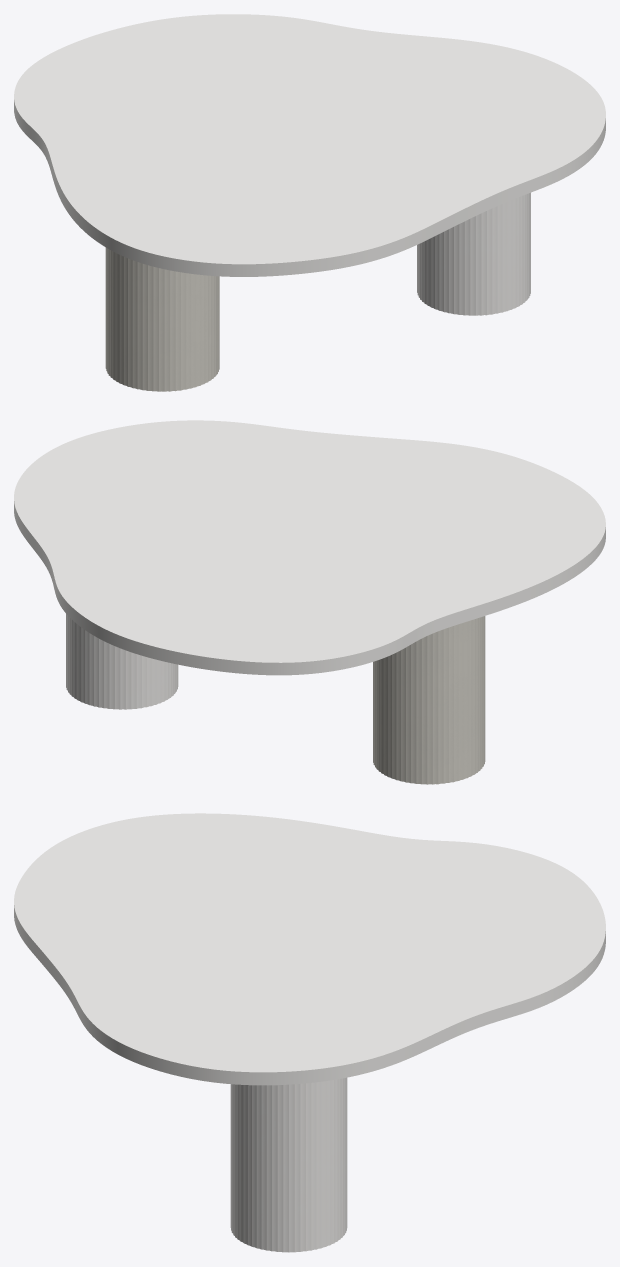
Rendered from purewhite_topone_standard_ripplesecond.glb.
3 views of the same model, one above another, from view 1: azimuth 30°, elevation 25°; view 2: azimuth 150°, elevation 25°; view 3: azimuth 270°, elevation 25° (orthographic). The views are drawn at different scales.
Parts seen in each view (by area): view 1: standard_topone, ripplesecond; view 2: standard_topone, ripplesecond; view 3: standard_topone, ripplesecond.
Part boxes in pixels (left/top/right/bottom): standard_topone: left=14, top=14, right=605, bottom=276; ripplesecond: left=105, top=192, right=530, bottom=391; standard_topone: left=14, top=420, right=605, bottom=675; ripplesecond: left=66, top=614, right=485, bottom=784; standard_topone: left=14, top=813, right=605, bottom=1085; ripplesecond: left=230, top=1077, right=347, bottom=1252.
Bounding box in the file's own units: 6.83 × 2.5 × 6.6.
2 materials, 2 textured.
